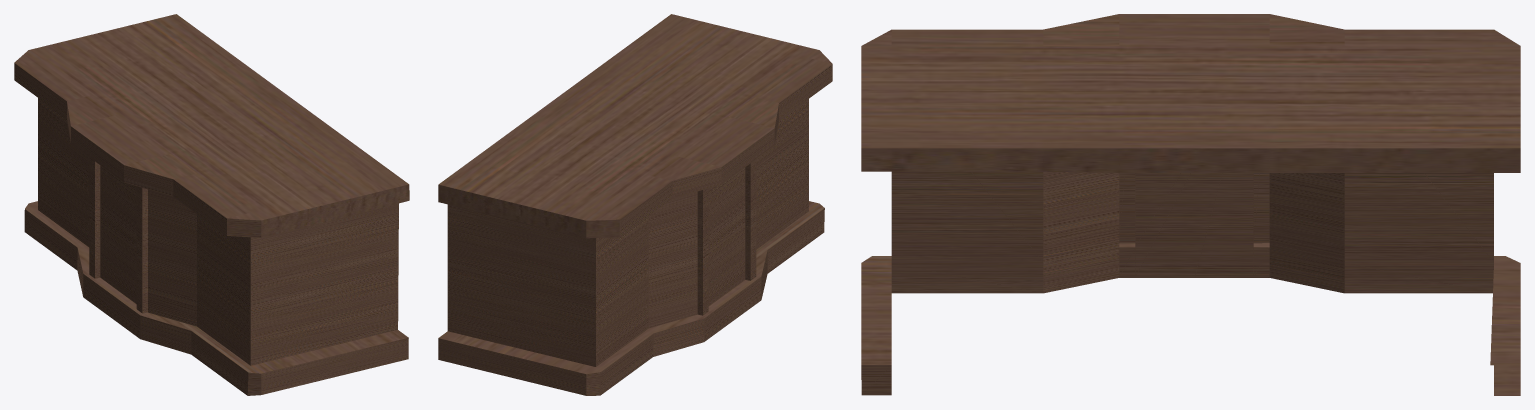
Rendered from стол препода.fbx.
3 renders of one model, left to right at view 1: azimuth 30°, elevation 25°; view 2: azimuth 150°, elevation 25°; view 3: azimuth 270°, elevation 25°, orthographic. The views are drawn at different scales.
Parts seen in each view (by area): view 1: Cube.002; view 2: Cube.002; view 3: Cube.002.
Part boxes in pixels (x1,y1,x2,y2): Cube.002: (14,14,409,395); Cube.002: (438,14,832,395); Cube.002: (861,14,1520,395).
Bounding box in the file's own units: 471 × 408 × 976.
Materials: 1 (1 with a texture image).
